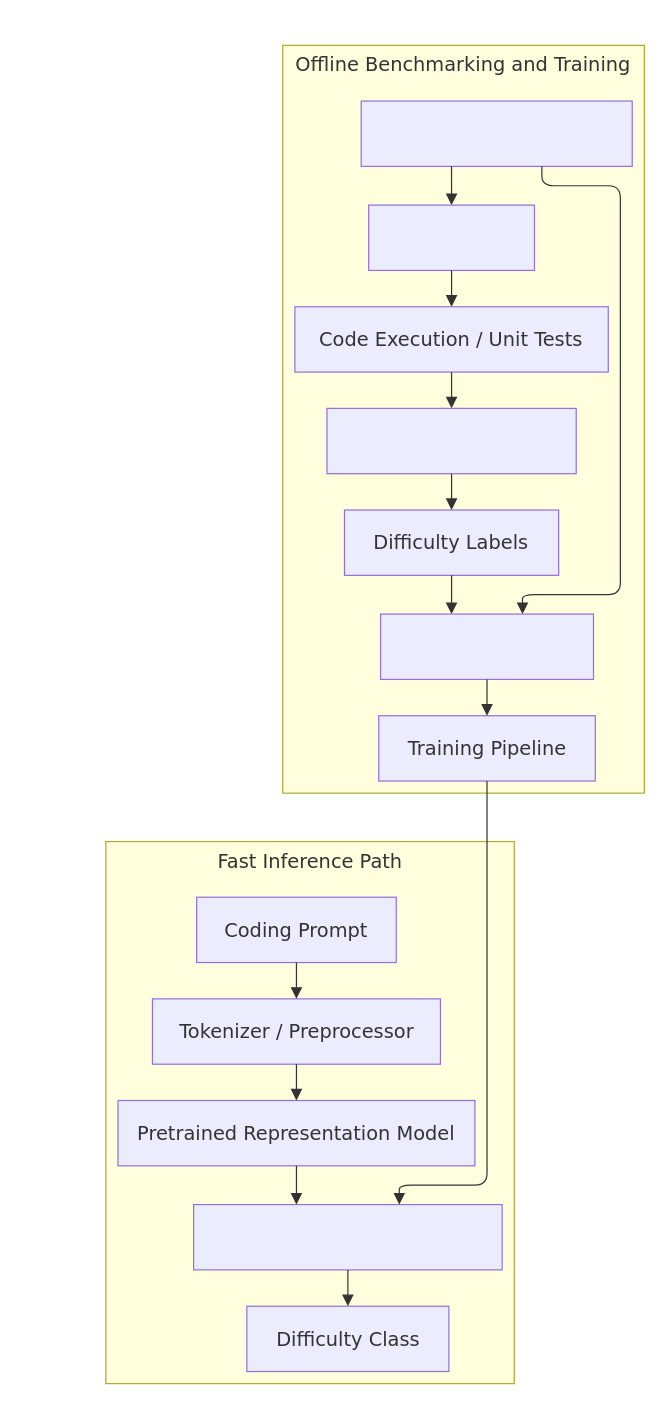
Image size: 666x1405. Some labels were removed from this diagram. Each missing label, with the centre of its shape:
"Coding Prompt Dataset" belongs at [496,133].
"Labeled Dataset" belongs at [486,646].
"Performance Results" belongs at [451,440].
"Target LLM" belongs at [450,237].
"Trained Difficulty Predictor" belongs at [347,1236].
